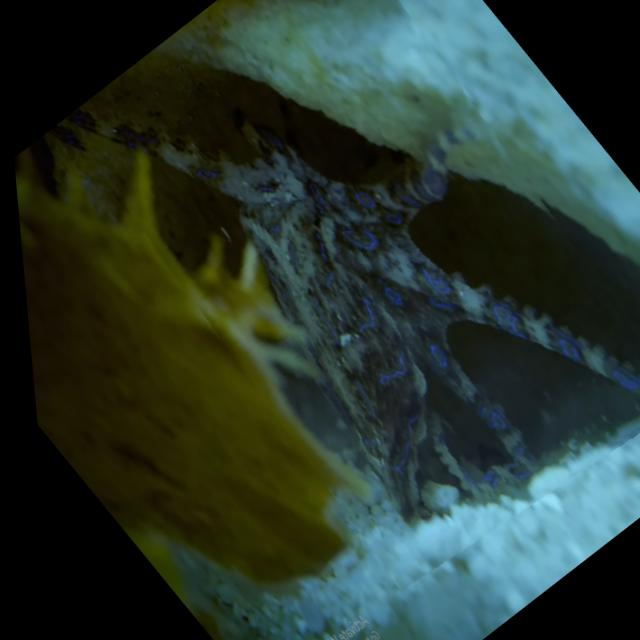blue_ringed_octopus: (30, 0, 640, 598)
